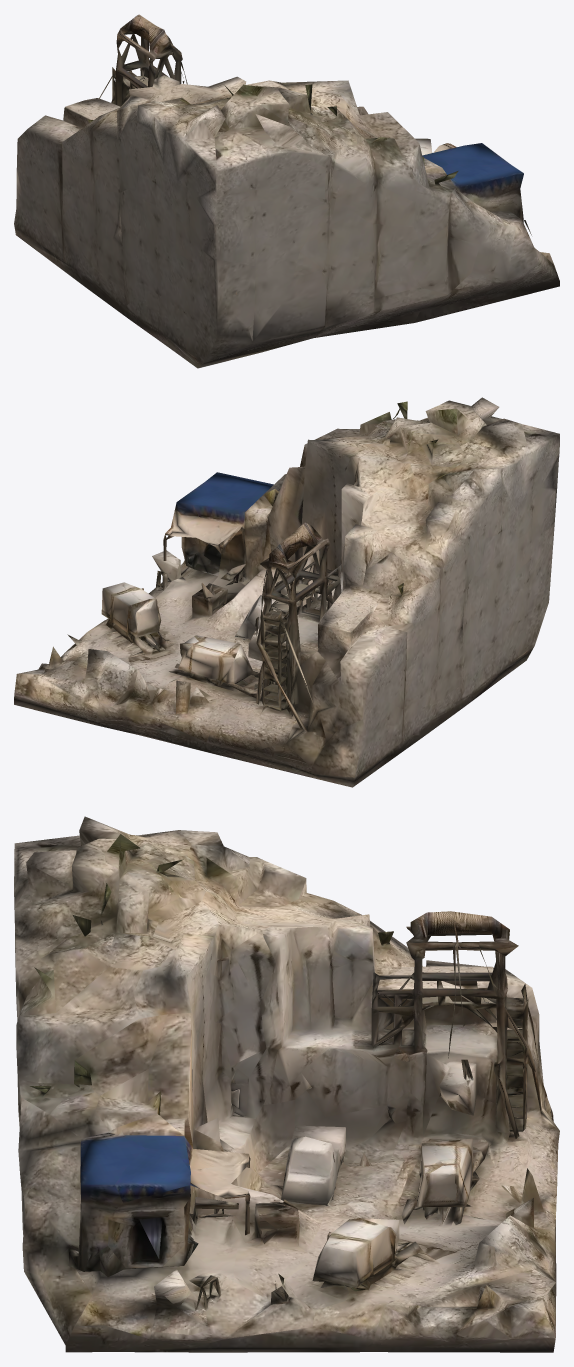
The model's file is stone_quarry_1.glb.
3 views of the same model, one above another, from view 1: azimuth 30°, elevation 25°; view 2: azimuth 150°, elevation 25°; view 3: azimuth 270°, elevation 25° (orthographic). The views are drawn at different scales.
Visible parts, largest first — view 1: tripo_node_575072be-8465-417a-b730-a044a467c8c4; view 2: tripo_node_575072be-8465-417a-b730-a044a467c8c4; view 3: tripo_node_575072be-8465-417a-b730-a044a467c8c4.
Boxes of the visible parts, left/top/right/bottom form: tripo_node_575072be-8465-417a-b730-a044a467c8c4: left=14, top=14, right=559, bottom=368; tripo_node_575072be-8465-417a-b730-a044a467c8c4: left=14, top=397, right=559, bottom=787; tripo_node_575072be-8465-417a-b730-a044a467c8c4: left=14, top=816, right=559, bottom=1352.
Size of the model in its own units: 0.9685 by 0.6565 by 0.9733.
1 material, 1 textured.
